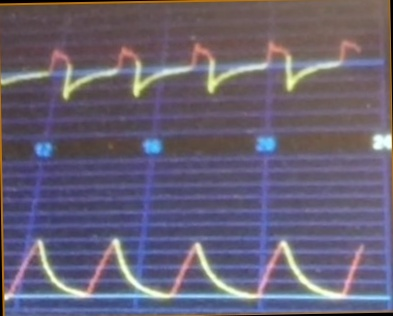Normal Flow: (3, 33, 362, 110)
Normal Volume: (7, 230, 368, 307)
